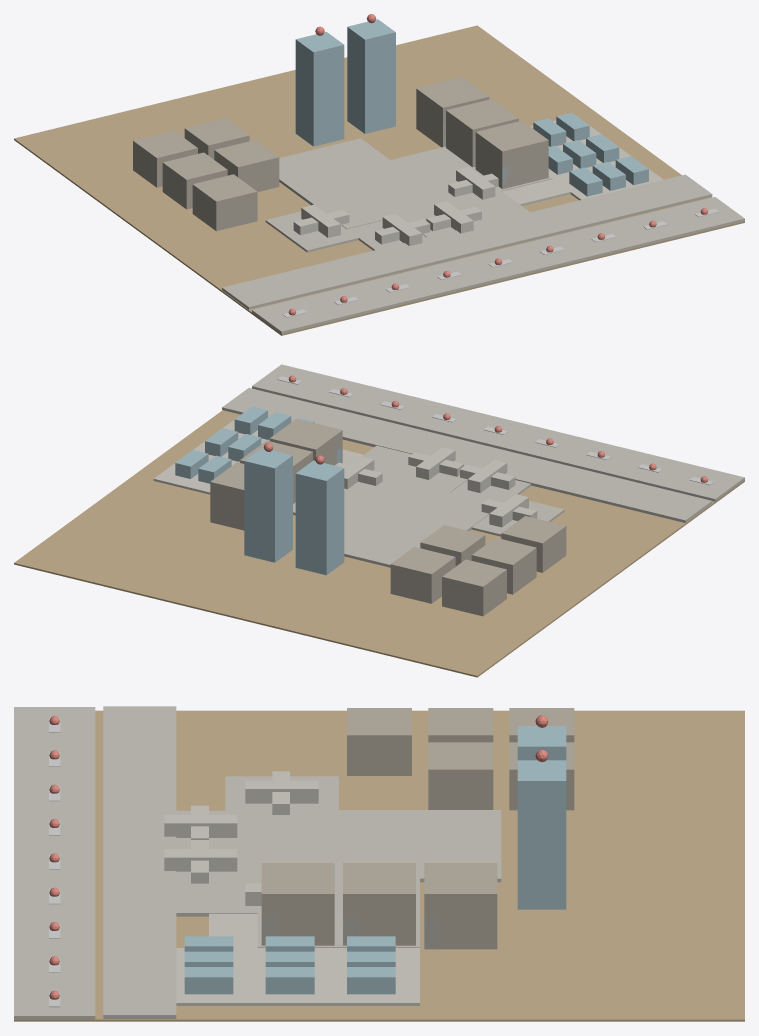
Rendered from stage_24.glb.
3 renders of one model, top to bottom at view 1: azimuth 30°, elevation 25°; view 2: azimuth 150°, elevation 25°; view 3: azimuth 270°, elevation 25°, orthographic. The views are drawn at different scales.
Visible parts, largest first — view 1: geometry_0; view 2: geometry_0; view 3: geometry_0.
Boxes of the visible parts, x1=… form: geometry_0: x1=14, y1=14, x2=744, y2=335; geometry_0: x1=14, y1=364, x2=744, y2=677; geometry_0: x1=14, y1=706, x2=744, y2=1021.
Size of the model in its own units: 9 by 2.06 by 9.
